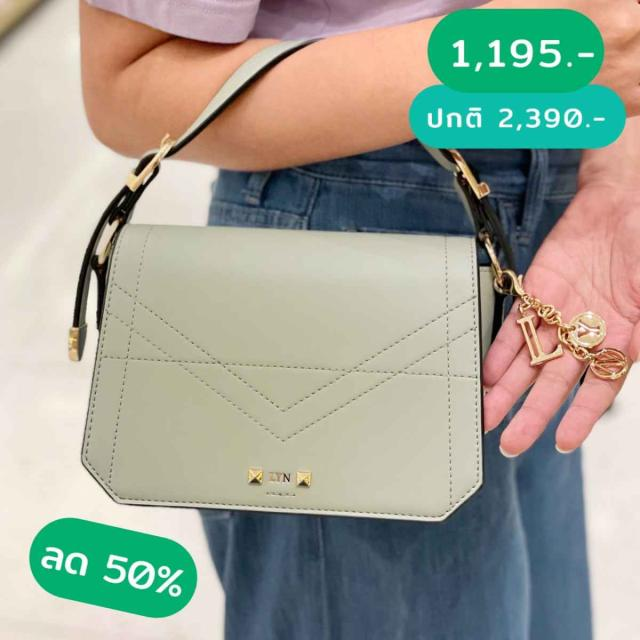handbag: (57, 149, 554, 515)
